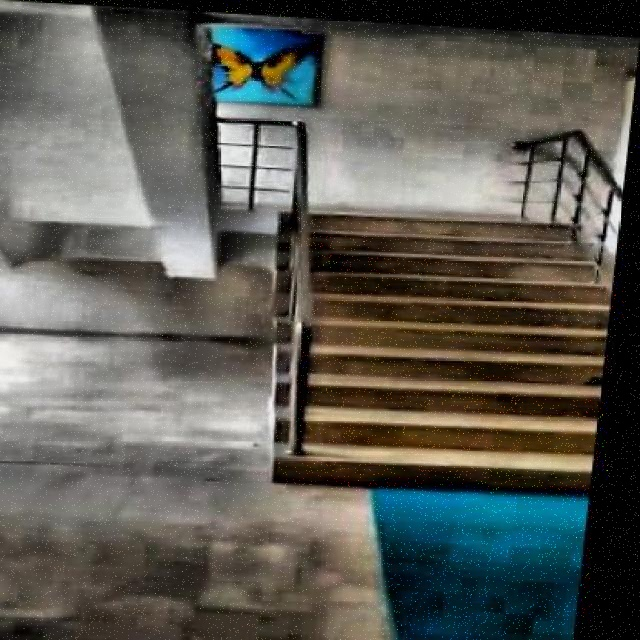stair: (264, 197, 622, 488)
